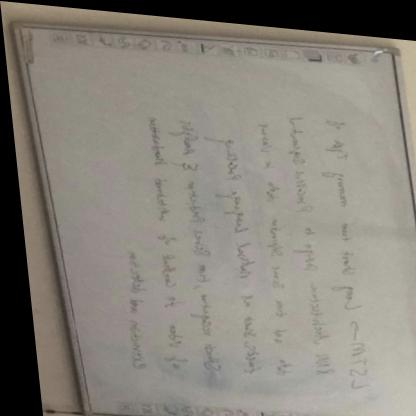Handwritten text: (313, 104, 381, 385), (276, 101, 336, 376), (162, 109, 223, 370), (241, 104, 297, 379), (203, 124, 264, 375), (139, 108, 189, 372), (105, 238, 156, 377)
Whiteboard: (6, 13, 416, 416)
